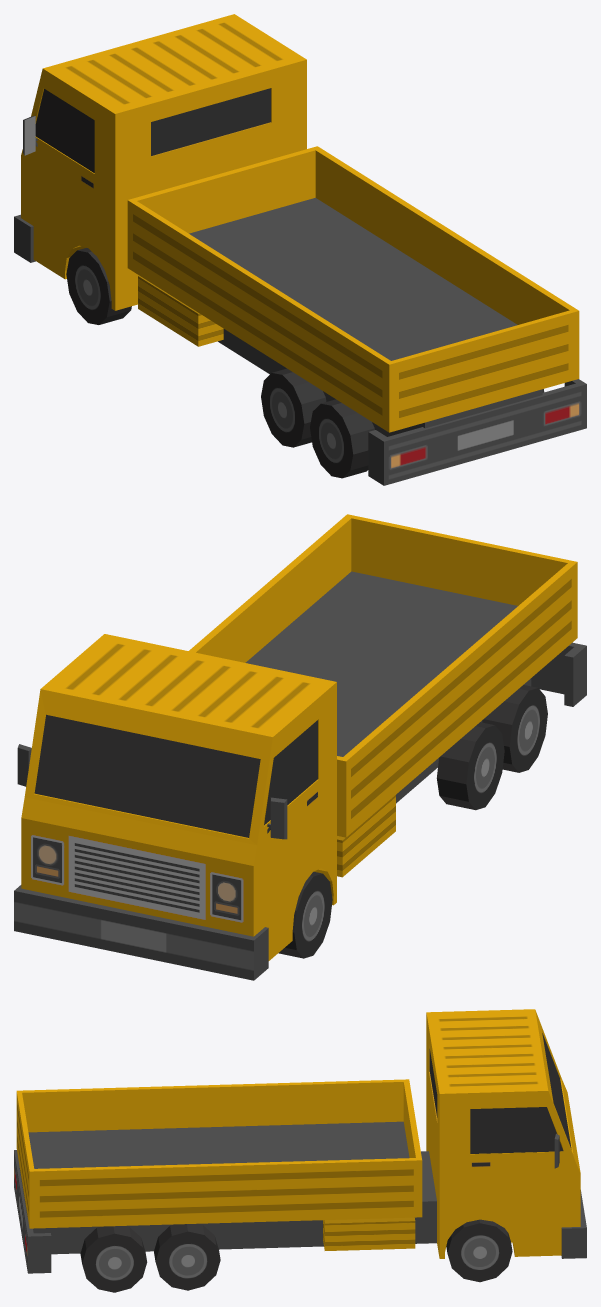
The model's file is Car9_truck2.glb.
The picture shows the model from 3 angles, top to bottom: view 1: azimuth 30°, elevation 25°; view 2: azimuth 150°, elevation 25°; view 3: azimuth 270°, elevation 25°; orthographic projection. The views are drawn at different scales.
Visible parts, largest first — view 1: Vehicle_Truck_color03.003; view 2: Vehicle_Truck_color03.003; view 3: Vehicle_Truck_color03.003.
Part boxes in pixels (box(x1,y1,x2,y2)): Vehicle_Truck_color03.003: box(14, 14, 586, 485); Vehicle_Truck_color03.003: box(14, 514, 586, 980); Vehicle_Truck_color03.003: box(14, 1009, 586, 1292).
Bounding box in the file's own units: 1.01 × 0.8483 × 2.33.
Materials: 1 (1 with a texture image).
